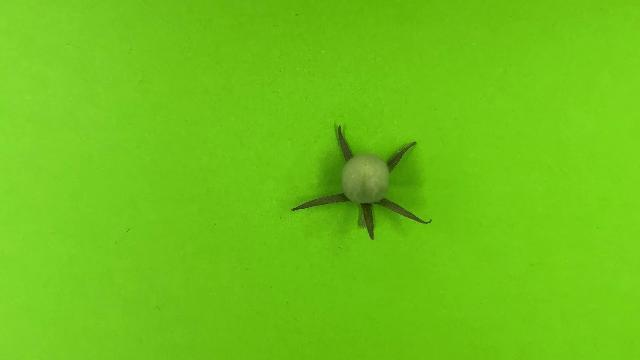Fruit Maturation: (340, 152, 391, 204)
